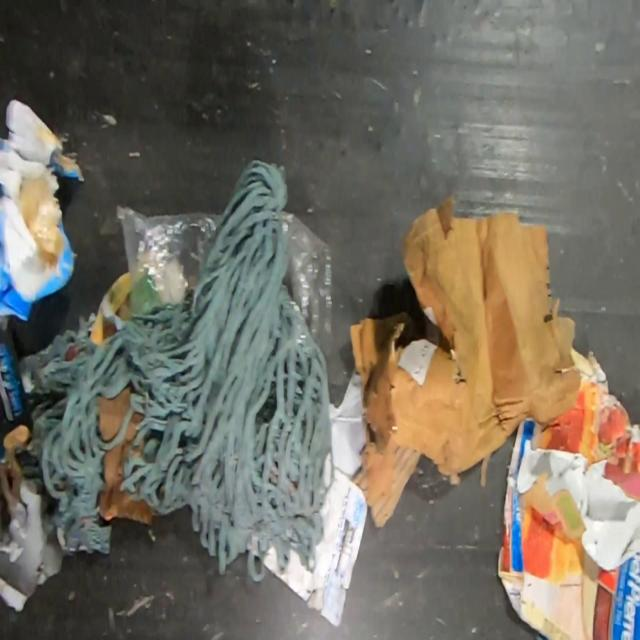cardboard: (348, 192, 579, 529), (497, 343, 640, 640), (0, 97, 86, 323), (98, 412, 154, 527), (88, 271, 132, 346), (97, 384, 134, 441)
metal: (0, 327, 34, 455)
soft_plastic: (114, 202, 221, 314), (281, 209, 334, 361), (328, 371, 374, 479)
